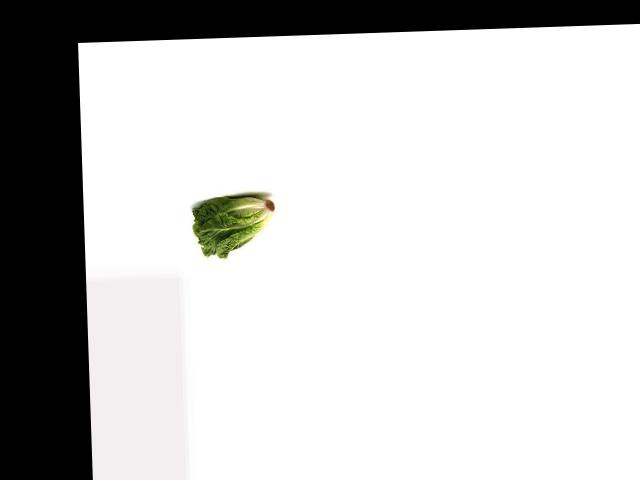lettuce: (191, 192, 280, 259)
